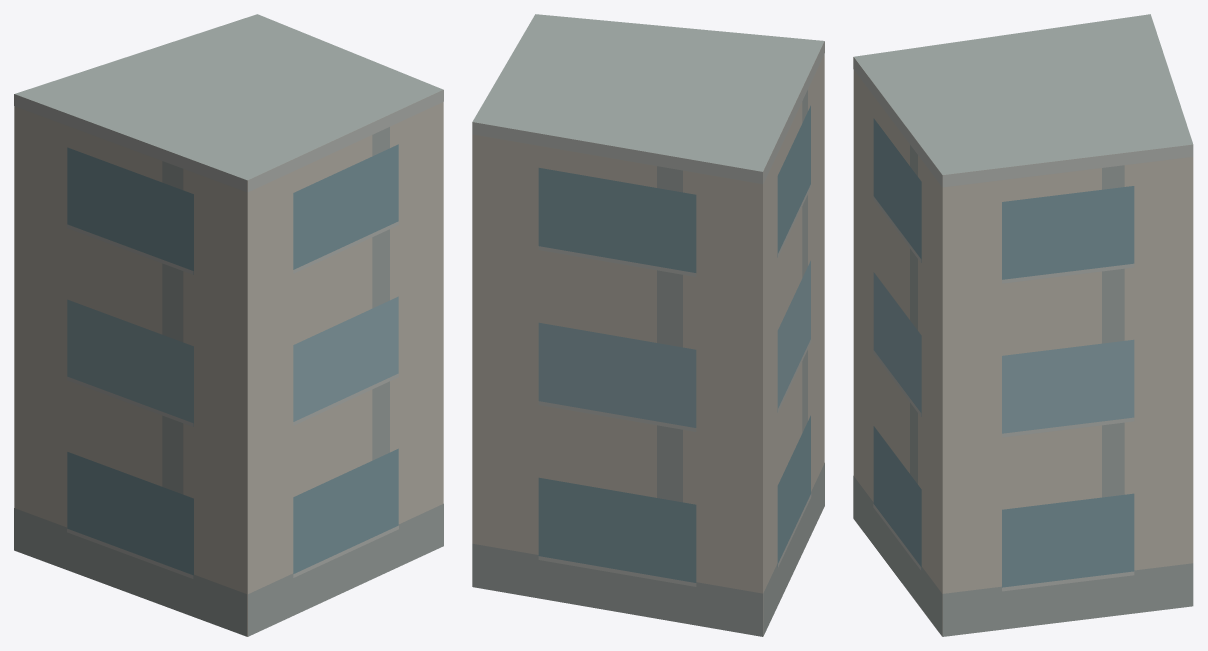
Rendered from survey-upis-32537993.glb.
The picture shows the model from 3 angles, left to right: view 1: azimuth 30°, elevation 25°; view 2: azimuth 150°, elevation 25°; view 3: azimuth 270°, elevation 25°; orthographic projection.
Visible parts, largest first — view 1: survey-upis-32537993.tmp; view 2: survey-upis-32537993.tmp; view 3: survey-upis-32537993.tmp.
Part boxes in pixels (x1=…): survey-upis-32537993.tmp: x1=14, y1=14, x2=443, y2=636; survey-upis-32537993.tmp: x1=472, y1=14, x2=824, y2=636; survey-upis-32537993.tmp: x1=853, y1=14, x2=1193, y2=636.
Size of the model in its own units: 6.86 by 9.15 by 6.12.
